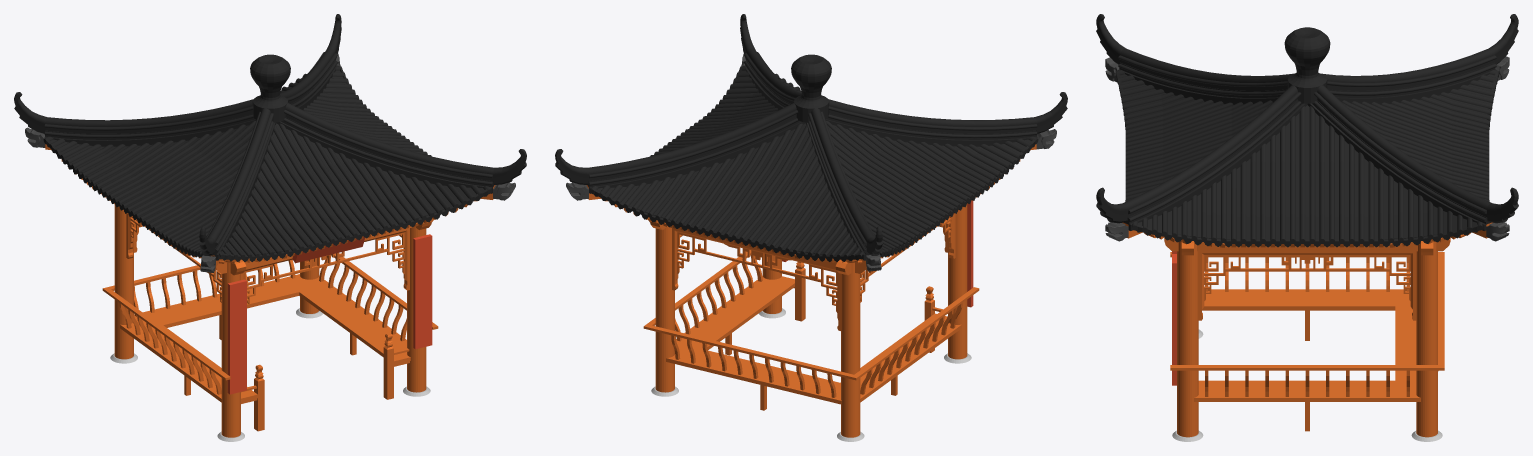
File: chinese_four_corner_pavilion.glb
3 views of the same model, side by side, from view 1: azimuth 30°, elevation 25°; view 2: azimuth 150°, elevation 25°; view 3: azimuth 270°, elevation 25° (orthographic). The views are drawn at different scales.
Visible parts, largest first — view 1: 瓦面1, 瓦面4, 垂脊2, 垂脊4, 坐凳3, 坐凳2, 坐凳1, 垂脊1, 瓦面2, 檐柱4, 对联2, 对联1 (+10 smaller); view 2: 瓦面3, 瓦面4, 垂脊3, 垂脊1, 坐凳2, 坐凳3, 坐凳1, 垂脊4, 檐柱4, 瓦面2, 檐柱3, 挂落3 (+8 smaller); view 3: 瓦面2, 瓦面1, 瓦面3, 坐凳3, 垂脊2, 垂脊3, 坐凳1, 垂脊1, 垂脊4, 檐柱1, 檐柱3, 挂落2 (+5 smaller).
Boxes of the visible parts, x1,y1,x2,y2 form: 瓦面1: [218, 123, 492, 262]; 瓦面4: [43, 121, 255, 257]; 垂脊2: [276, 103, 526, 193]; 垂脊4: [14, 92, 256, 146]; 坐凳3: [285, 253, 438, 364]; 坐凳2: [102, 260, 320, 339]; 坐凳1: [105, 287, 257, 402]; 垂脊1: [199, 108, 276, 260]; 瓦面2: [303, 66, 431, 156]; 檐柱4: [110, 204, 137, 363]; 对联2: [413, 234, 432, 349]; 对联1: [227, 279, 246, 394]; 瓦面3: [590, 123, 863, 262]; 瓦面4: [826, 121, 1038, 257]; 垂脊3: [555, 103, 805, 193]; 垂脊1: [825, 92, 1067, 146]; 坐凳2: [649, 325, 867, 410]; 坐凳3: [643, 250, 794, 360]; 坐凳1: [824, 287, 979, 402]; 垂脊4: [806, 108, 882, 260]; 檐柱4: [837, 262, 864, 441]; 瓦面2: [650, 66, 778, 156]; 檐柱3: [651, 226, 678, 396]; 挂落3: [672, 228, 840, 330]; 瓦面2: [1131, 105, 1484, 247]; 瓦面1: [1115, 70, 1272, 201]; 瓦面3: [1342, 70, 1499, 201]; 坐凳3: [1170, 365, 1444, 431]; 垂脊2: [1096, 85, 1307, 230]; 垂脊3: [1307, 85, 1518, 230]; 坐凳1: [1170, 252, 1444, 340]; 垂脊1: [1096, 14, 1293, 104]; 垂脊4: [1321, 14, 1518, 104]; 檐柱1: [1172, 241, 1203, 441]; 檐柱3: [1411, 241, 1442, 441]; 挂落2: [1198, 251, 1416, 320].
Bounding box in the file's own units: 38.87 × 35.69 × 38.87.
